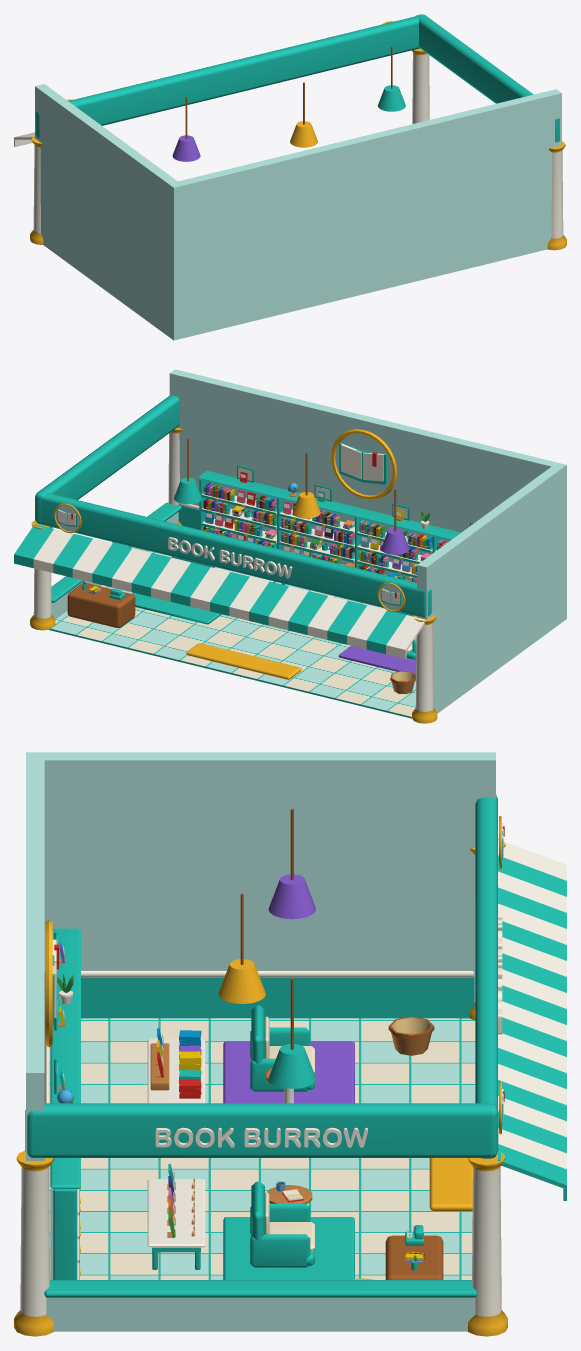
File: book_burrow.glb
The picture shows the model from 3 angles, top to bottom: view 1: azimuth 30°, elevation 25°; view 2: azimuth 150°, elevation 25°; view 3: azimuth 270°, elevation 25°; orthographic projection. The views are drawn at different scales.
Visible parts, largest first — view 1: Shop_Book_Back_Wall, Shop_Book_Side_Wall, Shop_Book_Front_Canopy, Shop_Book_Shell, Book_Pendant_Shade_2, Book_Pendant_Shade_0, Book_Pendant_Shade_1; view 2: Shop_Book_Front_Canopy, Shop_Book_Back_Wall, Shop_Book_Side_Wall, Shop_Book_Shell, M_Book_Library, Book_Checkout, Refined_Book_Entry_Mat, Reading_Nook_Rug_1, Reading_Nook_Rug_0, M_Book_Reading, Book_Pendant_Shade_2, Book_Pendant_Shade_0 (+1 smaller); view 3: Shop_Book_Side_Wall, Shop_Book_Shell, Shop_Book_Front_Canopy, Shop_Book_Back_Wall, M_Book_Library, Reading_Nook_Rug_1, Reading_Nook_Rug_0, M_Book_StaffPicks, Reading_Chair_1.001, M_Book_NewBooks, Reading_Chair_0, M_Book_Reading (+5 smaller).
Part boxes in pixels (x1,y1,x2,y2): Shop_Book_Back_Wall: [168, 89, 561, 340]; Shop_Book_Side_Wall: [35, 84, 177, 335]; Shop_Book_Front_Canopy: [14, 14, 559, 146]; Shop_Book_Shell: [30, 48, 566, 250]; Book_Pendant_Shade_2: [378, 85, 405, 111]; Book_Pendant_Shade_0: [172, 135, 200, 161]; Book_Pendant_Shade_1: [290, 121, 317, 147]; Shop_Book_Front_Canopy: [14, 395, 431, 658]; Shop_Book_Back_Wall: [169, 369, 566, 622]; Shop_Book_Side_Wall: [417, 466, 561, 713]; Shop_Book_Shell: [30, 427, 437, 723]; M_Book_Library: [198, 465, 473, 582]; Book_Checkout: [67, 583, 135, 627]; Refined_Book_Entry_Mat: [186, 643, 301, 679]; Reading_Nook_Rug_1: [132, 592, 221, 624]; Reading_Nook_Rug_0: [338, 646, 416, 674]; M_Book_Reading: [82, 581, 415, 694]; Book_Pendant_Shade_2: [174, 477, 202, 504]; Book_Pendant_Shade_0: [381, 528, 409, 554]; Shop_Book_Side_Wall: [44, 752, 495, 1018]; Shop_Book_Shell: [14, 838, 507, 1336]; Shop_Book_Front_Canopy: [25, 795, 566, 1200]; Shop_Book_Back_Wall: [26, 752, 58, 1210]; M_Book_Library: [50, 928, 80, 1279]; Reading_Nook_Rug_1: [223, 1217, 354, 1279]; Reading_Nook_Rug_0: [223, 1041, 354, 1103]; M_Book_StaffPicks: [147, 1163, 205, 1269]; Reading_Chair_1.001: [250, 1181, 314, 1267]; M_Book_NewBooks: [147, 1028, 205, 1103]; Reading_Chair_0: [250, 1005, 314, 1091]; M_Book_Reading: [276, 1016, 434, 1270].
Bounding box in the file's own units: 12.48 × 4.89 × 8.82.
Materials: 25 (1 with a texture image).
